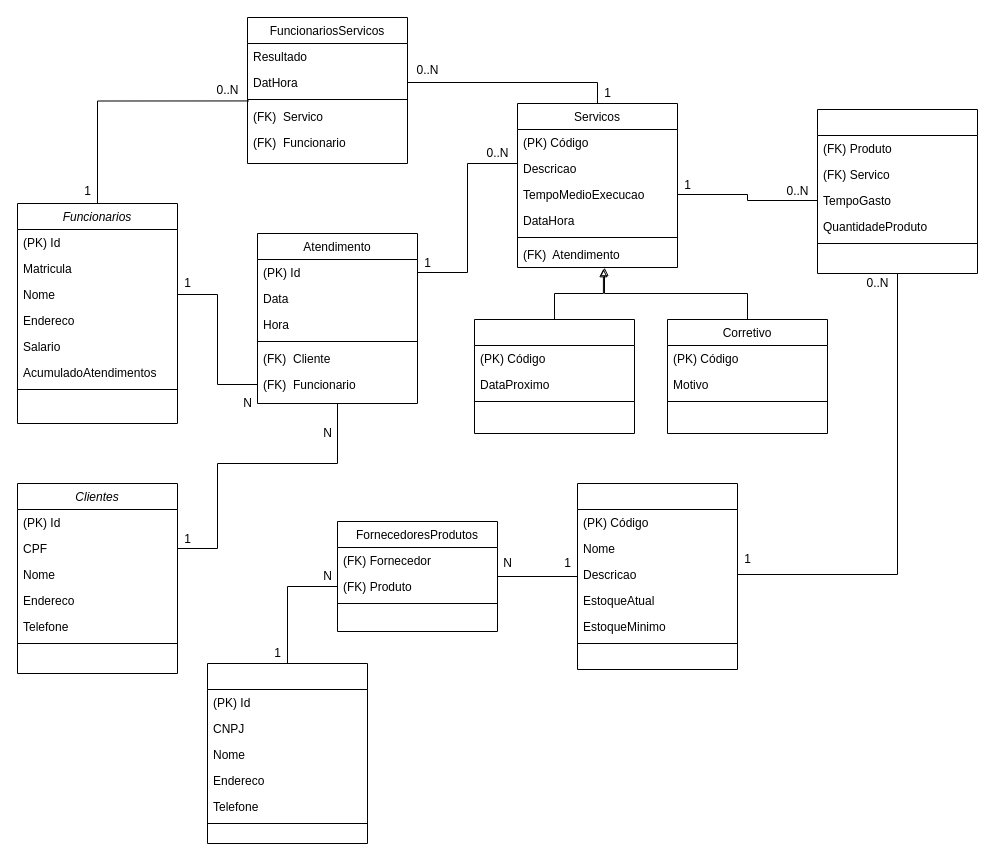
This 995x861 diagram has some shape labels left out. The shapes that lost their labels are listed below. From the top down, each one's box as (x1, y1, x2, y2) in pixels, then its label:
(816, 108, 978, 274): ProdutosServicos
(474, 318, 634, 434): Preventivo
(576, 482, 738, 670): Produtos
(206, 662, 368, 844): Fornecedores
